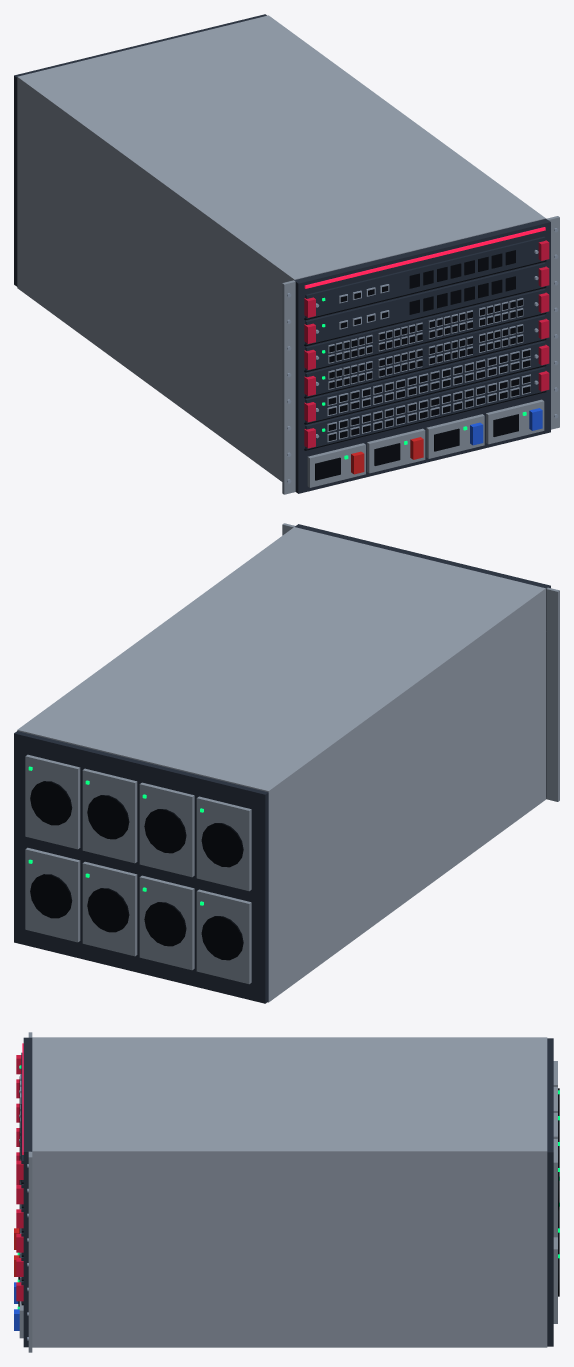
File: huawei_ce12800_chassis_8u.glb
3 views of the same model, one above another, from view 1: azimuth 30°, elevation 25°; view 2: azimuth 150°, elevation 25°; view 3: azimuth 270°, elevation 25° (orthographic). The views are drawn at different scales.
Visible parts, largest first — view 1: BATCH_MAT_CHASSIS_BODY, BATCH_MAT_SLOT_CARD, BATCH_MAT_CAVITY_DARK, BATCH_MAT_FACEPLATE, BATCH_MAT_RACK_EAR, BATCH_MAT_PORT_SHIELD, BATCH_MAT_EJECTOR_LEVER, BATCH_MAT_BRAND_ACCENT, BATCH_MAT_SHELF_PSU_A, BATCH_MAT_SHELF_PSU_B; view 2: BATCH_MAT_CHASSIS_BODY, BATCH_MAT_RACK_EAR, BATCH_MAT_FACEPLATE, BATCH_MAT_CAVITY_DARK; view 3: BATCH_MAT_CHASSIS_BODY, BATCH_MAT_FACEPLATE, BATCH_MAT_RACK_EAR, BATCH_MAT_EJECTOR_LEVER, BATCH_MAT_CAVITY_DARK.
Boxes of the visible parts, x1,y1,x2,y2 form: BATCH_MAT_CHASSIS_BODY: (17, 15, 545, 481); BATCH_MAT_SLOT_CARD: (305, 236, 545, 449); BATCH_MAT_CAVITY_DARK: (304, 250, 546, 480); BATCH_MAT_FACEPLATE: (14, 14, 550, 493); BATCH_MAT_RACK_EAR: (282, 216, 559, 494); BATCH_MAT_PORT_SHIELD: (287, 228, 558, 483); BATCH_MAT_EJECTOR_LEVER: (304, 240, 549, 448); BATCH_MAT_BRAND_ACCENT: (304, 227, 545, 288); BATCH_MAT_SHELF_PSU_A: (351, 437, 423, 474); BATCH_MAT_SHELF_PSU_B: (470, 408, 542, 445); BATCH_MAT_CHASSIS_BODY: (17, 527, 545, 1002); BATCH_MAT_RACK_EAR: (25, 523, 559, 984); BATCH_MAT_FACEPLATE: (14, 524, 550, 1003); BATCH_MAT_CAVITY_DARK: (30, 781, 243, 960); BATCH_MAT_CHASSIS_BODY: (32, 1037, 547, 1347); BATCH_MAT_FACEPLATE: (23, 1037, 553, 1347); BATCH_MAT_RACK_EAR: (19, 1032, 557, 1352); BATCH_MAT_EJECTOR_LEVER: (16, 1055, 23, 1301); BATCH_MAT_CAVITY_DARK: (18, 1076, 559, 1306).
Size of the model in its own units: 0.4826 by 0.3536 by 0.8905.
